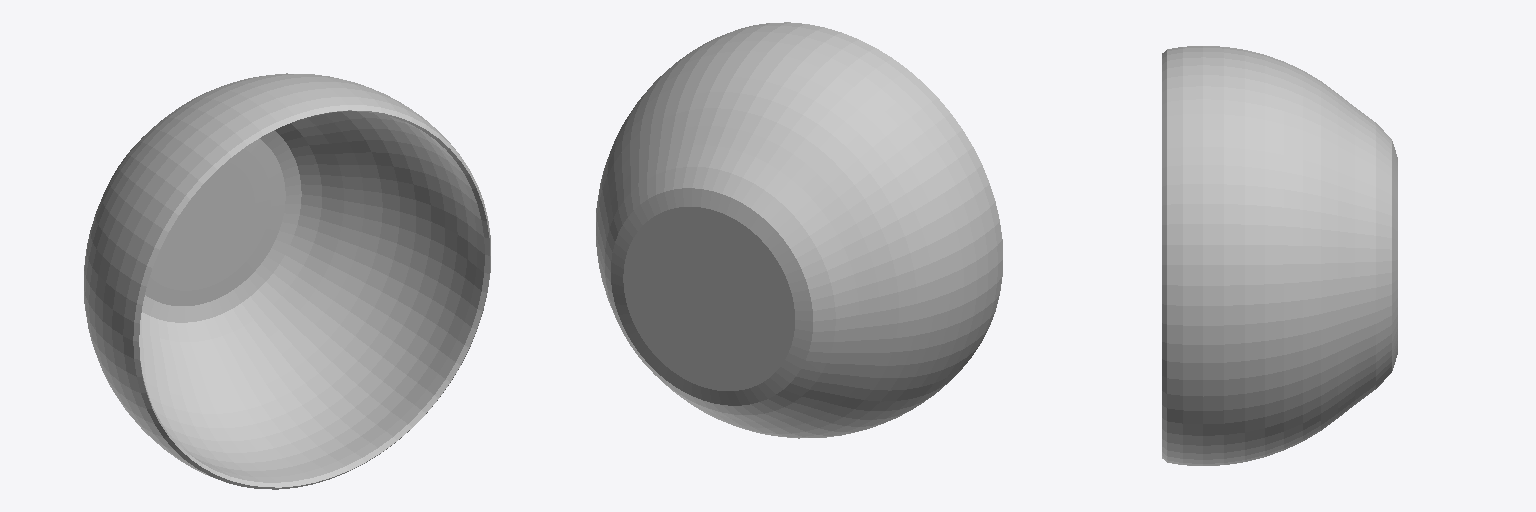
File: planet black.obj
3 renders of one model, left to right at view 1: azimuth 30°, elevation 25°; view 2: azimuth 150°, elevation 25°; view 3: azimuth 270°, elevation 25°, orthographic.
Visible parts, largest first — view 1: planet_Sphere.002; view 2: planet_Sphere.002; view 3: planet_Sphere.002.
Boxes of the visible parts, x1=… form: planet_Sphere.002: x1=84, y1=73, x2=490, y2=489; planet_Sphere.002: x1=596, y1=22, x2=1002, y2=438; planet_Sphere.002: x1=1162, y1=46, x2=1397, y2=465.
Bounding box in the file's own units: 21.34 × 21.34 × 11.92.